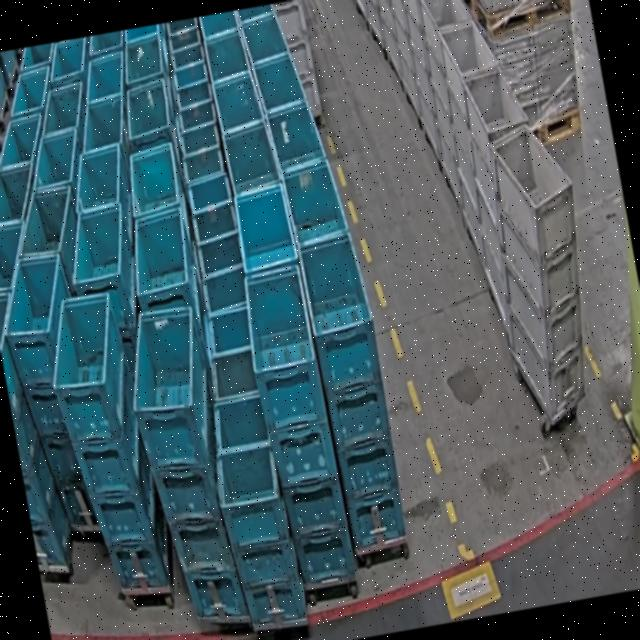4G: (470, 117, 612, 432)
B4: (37, 287, 179, 605), (117, 302, 253, 634), (236, 265, 357, 591), (295, 230, 412, 553), (0, 250, 111, 538), (0, 284, 79, 577)
B8: (201, 390, 309, 634)
